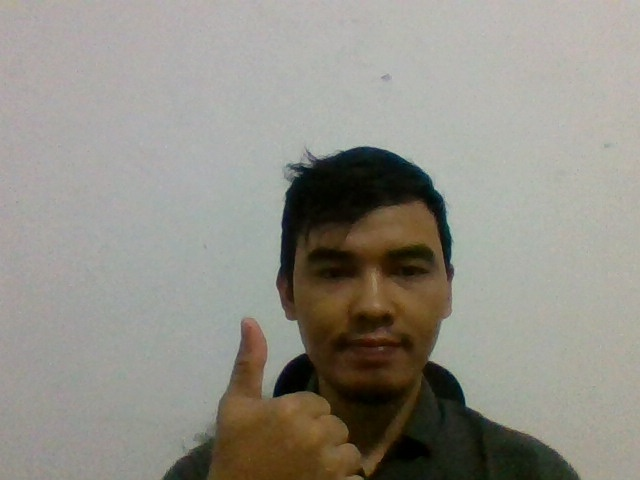hello: (206, 312, 384, 480)
